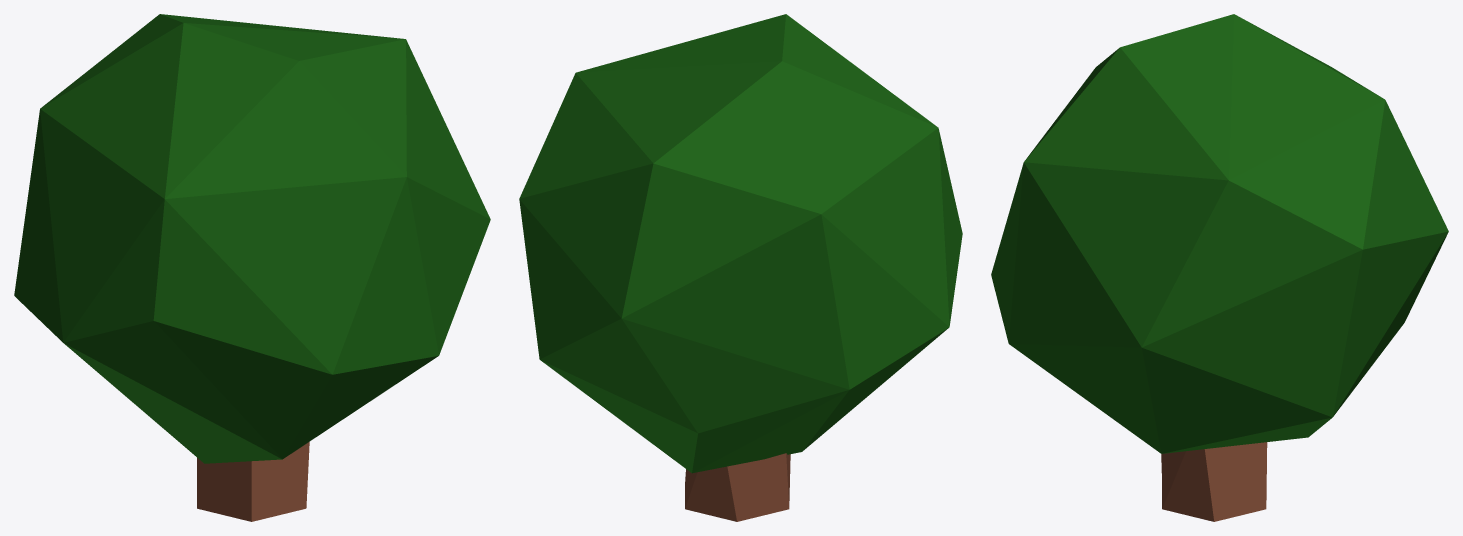
The model's file is bush_3_autumn_mat.fbx.
The picture shows the model from 3 angles, left to right: view 1: azimuth 30°, elevation 25°; view 2: azimuth 150°, elevation 25°; view 3: azimuth 270°, elevation 25°; orthographic projection. The views are drawn at different scales.
Parts seen in each view (by area): view 1: bush_3_autumn_mat; view 2: bush_3_autumn_mat; view 3: bush_3_autumn_mat.
Part boxes in pixels (x1,y1,x2,y2): bush_3_autumn_mat: [14, 14, 490, 521]; bush_3_autumn_mat: [519, 14, 962, 521]; bush_3_autumn_mat: [991, 14, 1448, 521].
Size of the model in its own units: 1.4 by 1.57 by 1.43.
